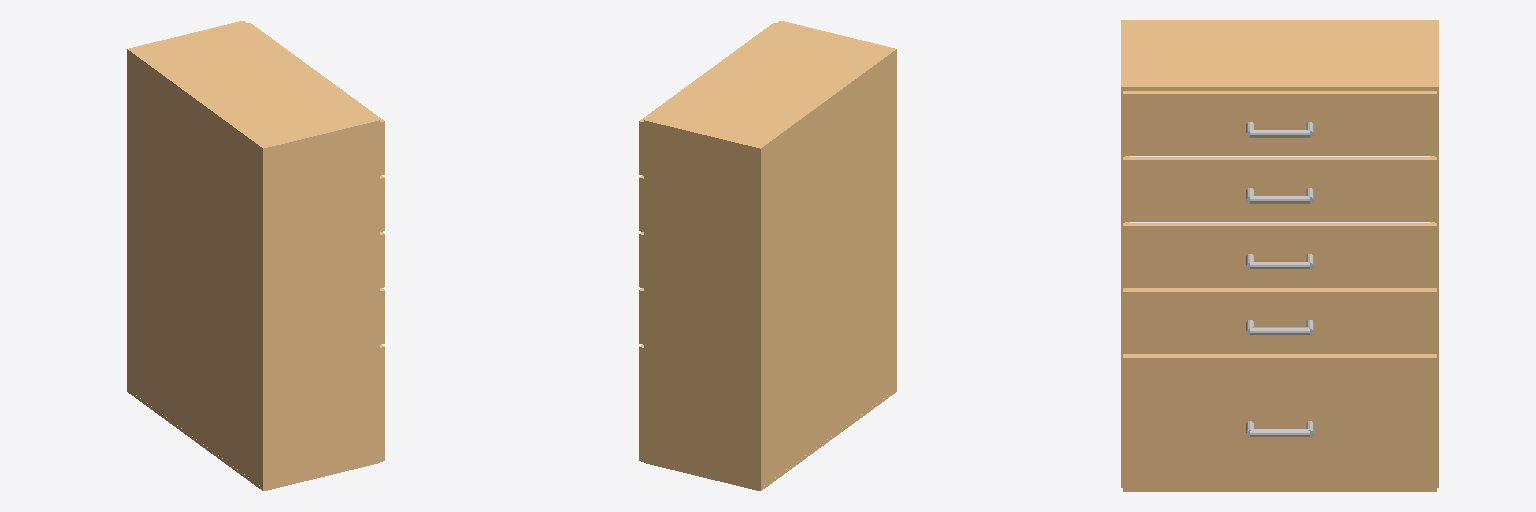
The robot description file, URDF, robot "room610-shelf2":
<?xml version="1.0"?>
<robot name="room610-shelf2"
       xmlns:xi="http://www.w3.org/2001/XInclude"
       xmlns:gazebo="http://playerstage.sourceforge.net/gazebo/xmlschema/#gz"
       xmlns:model="http://playerstage.sourceforge.net/gazebo/xmlschema/#model"
       xmlns:sensor="http://playerstage.sourceforge.net/gazebo/xmlschema/#sensor"
       xmlns:body="http://playerstage.sourceforge.net/gazebo/xmlschema/#body"
       xmlns:geom="http://playerstage.sourceforge.net/gazebo/xmlschema/#geom"
       xmlns:joint="http://playerstage.sourceforge.net/gazebo/xmlschema/#joint"
       xmlns:interface="http://playerstage.sourceforge.net/gazebo/xmlschema/#interface"
       xmlns:rendering="http://playerstage.sourceforge.net/gazebo/xmlschema/#rendering"
       xmlns:renderable="http://playerstage.sourceforge.net/gazebo/xmlschema/#renderable"
       xmlns:controller="http://playerstage.sourceforge.net/gazebo/xmlschema/#controller"
       xmlns:physics="http://playerstage.sourceforge.net/gazebo/xmlschema/#physics">
  <gazebo>
    <static>false</static>
  </gazebo>
  <link name="ROOT_link">
    <visual>
      <origin xyz="0 0 0" rpy="0 -0 0"/>
      <geometry>
        <mesh filename="model://room610-shelf2/meshes/ROOT_link_mesh.dae" scale="1 1 1" />
      </geometry>
    </visual>
    <collision>
      <origin xyz="0 0 0" rpy="0 -0 0"/>
      <geometry>
        <mesh filename="model://room610-shelf2/meshes/ROOT_link_mesh.dae" scale="1 1 1" />
      </geometry>
    </collision>
    <inertial>
      <mass value="0.001" />
      <origin xyz="0 0 0" rpy="0 -0 0"/>
      <inertia ixx="1e-09" ixy="0" ixz="0" iyy="1e-09" iyz="0" izz="1e-09"/>
    </inertial>
  </link>
  <gazebo reference="ROOT_link">
    <mu1>0.9</mu1>
    <mu2>0.9</mu2>
  </gazebo>
  <link name="ROOM610-SHELF2-BODYSET6_link">
    <visual>
      <origin xyz="0.0055 0 0.175" rpy="0 -0 0"/>
      <geometry>
        <mesh filename="model://room610-shelf2/meshes/ROOM610-SHELF2-BODYSET6_link_mesh.dae" scale="1 1 1" />
      </geometry>
    </visual>
    <collision>
      <origin xyz="0.0055 0 0.175" rpy="0 -0 0"/>
      <geometry>
        <mesh filename="model://room610-shelf2/meshes/ROOM610-SHELF2-BODYSET6_link_mesh.dae" scale="1 1 1" />
      </geometry>
    </collision>
    <inertial>
      <mass value="0.001" />
      <origin xyz="0 0 0" rpy="0 -0 0"/>
      <inertia ixx="1e-09" ixy="0" ixz="0" iyy="1e-09" iyz="0" izz="1e-09"/>
    </inertial>
  </link>
  <gazebo reference="ROOM610-SHELF2-BODYSET6_link">
    <mu1>0.9</mu1>
    <mu2>0.9</mu2>
  </gazebo>
  <link name="ROOM610-SHELF2-BODYSET5_link">
    <visual>
      <origin xyz="0.0055 0 0.45625" rpy="0 -0 0"/>
      <geometry>
        <mesh filename="model://room610-shelf2/meshes/ROOM610-SHELF2-BODYSET5_link_mesh.dae" scale="1 1 1" />
      </geometry>
    </visual>
    <collision>
      <origin xyz="0.0055 0 0.45625" rpy="0 -0 0"/>
      <geometry>
        <mesh filename="model://room610-shelf2/meshes/ROOM610-SHELF2-BODYSET5_link_mesh.dae" scale="1 1 1" />
      </geometry>
    </collision>
    <inertial>
      <mass value="0.001" />
      <origin xyz="0 0 0" rpy="0 -0 0"/>
      <inertia ixx="1e-09" ixy="0" ixz="0" iyy="1e-09" iyz="0" izz="1e-09"/>
    </inertial>
  </link>
  <gazebo reference="ROOM610-SHELF2-BODYSET5_link">
    <mu1>0.9</mu1>
    <mu2>0.9</mu2>
  </gazebo>
  <link name="ROOM610-SHELF2-BODYSET4_link">
    <visual>
      <origin xyz="0.0055 0 0.63875" rpy="0 -0 0"/>
      <geometry>
        <mesh filename="model://room610-shelf2/meshes/ROOM610-SHELF2-BODYSET4_link_mesh.dae" scale="1 1 1" />
      </geometry>
    </visual>
    <collision>
      <origin xyz="0.0055 0 0.63875" rpy="0 -0 0"/>
      <geometry>
        <mesh filename="model://room610-shelf2/meshes/ROOM610-SHELF2-BODYSET4_link_mesh.dae" scale="1 1 1" />
      </geometry>
    </collision>
    <inertial>
      <mass value="0.001" />
      <origin xyz="0 0 0" rpy="0 -0 0"/>
      <inertia ixx="1e-09" ixy="0" ixz="0" iyy="1e-09" iyz="0" izz="1e-09"/>
    </inertial>
  </link>
  <gazebo reference="ROOM610-SHELF2-BODYSET4_link">
    <mu1>0.9</mu1>
    <mu2>0.9</mu2>
  </gazebo>
  <link name="ROOM610-SHELF2-BODYSET3_link">
    <visual>
      <origin xyz="0.0055 0 0.82125" rpy="0 -0 0"/>
      <geometry>
        <mesh filename="model://room610-shelf2/meshes/ROOM610-SHELF2-BODYSET3_link_mesh.dae" scale="1 1 1" />
      </geometry>
    </visual>
    <collision>
      <origin xyz="0.0055 0 0.82125" rpy="0 -0 0"/>
      <geometry>
        <mesh filename="model://room610-shelf2/meshes/ROOM610-SHELF2-BODYSET3_link_mesh.dae" scale="1 1 1" />
      </geometry>
    </collision>
    <inertial>
      <mass value="0.001" />
      <origin xyz="0 0 0" rpy="0 -0 0"/>
      <inertia ixx="1e-09" ixy="0" ixz="0" iyy="1e-09" iyz="0" izz="1e-09"/>
    </inertial>
  </link>
  <gazebo reference="ROOM610-SHELF2-BODYSET3_link">
    <mu1>0.9</mu1>
    <mu2>0.9</mu2>
  </gazebo>
  <link name="ROOM610-SHELF2-BODYSET2_link">
    <visual>
      <origin xyz="0.0055 0 1.00375" rpy="0 -0 0"/>
      <geometry>
        <mesh filename="model://room610-shelf2/meshes/ROOM610-SHELF2-BODYSET2_link_mesh.dae" scale="1 1 1" />
      </geometry>
    </visual>
    <collision>
      <origin xyz="0.0055 0 1.00375" rpy="0 -0 0"/>
      <geometry>
        <mesh filename="model://room610-shelf2/meshes/ROOM610-SHELF2-BODYSET2_link_mesh.dae" scale="1 1 1" />
      </geometry>
    </collision>
    <inertial>
      <mass value="0.001" />
      <origin xyz="0 0 0" rpy="0 -0 0"/>
      <inertia ixx="1e-09" ixy="0" ixz="0" iyy="1e-09" iyz="0" izz="1e-09"/>
    </inertial>
  </link>
  <gazebo reference="ROOM610-SHELF2-BODYSET2_link">
    <mu1>0.9</mu1>
    <mu2>0.9</mu2>
  </gazebo>
  <joint name="DRAWER0" type="prismatic">
    <parent link="ROOT_link"/>
    <child  link="ROOM610-SHELF2-BODYSET6_link"/>
    <origin xyz="0.0055 0 0.175" rpy="0 -0 0 "/>
    <axis   xyz="1 0 0"/>
    <limit lower="0" upper="0.405" effort="100" velocity="0.01" />
    <dynamics damping="0.2" friction="0" />
  </joint>
  <transmission type="pr2_mechanism_model/SimpleTransmission" name="DRAWER0_trans" >
    <actuator name="DRAWER0_motor" />
    <joint name="DRAWER0" />
    <mechanicalReduction>1</mechanicalReduction>
  </transmission>
  <gazebo reference="DRAWER0">
    <cfmDamping>0.4</cfmDamping>
  </gazebo>
  <joint name="DRAWER1" type="prismatic">
    <parent link="ROOT_link"/>
    <child  link="ROOM610-SHELF2-BODYSET5_link"/>
    <origin xyz="0.0055 0 0.45625" rpy="0 -0 0 "/>
    <axis   xyz="1 0 0"/>
    <limit lower="0" upper="0.405" effort="100" velocity="0.01" />
    <dynamics damping="0.2" friction="0" />
  </joint>
  <transmission type="pr2_mechanism_model/SimpleTransmission" name="DRAWER1_trans" >
    <actuator name="DRAWER1_motor" />
    <joint name="DRAWER1" />
    <mechanicalReduction>1</mechanicalReduction>
  </transmission>
  <gazebo reference="DRAWER1">
    <cfmDamping>0.4</cfmDamping>
  </gazebo>
  <joint name="DRAWER2" type="prismatic">
    <parent link="ROOT_link"/>
    <child  link="ROOM610-SHELF2-BODYSET4_link"/>
    <origin xyz="0.0055 0 0.63875" rpy="0 -0 0 "/>
    <axis   xyz="1 0 0"/>
    <limit lower="0" upper="0.405" effort="100" velocity="0.01" />
    <dynamics damping="0.2" friction="0" />
  </joint>
  <transmission type="pr2_mechanism_model/SimpleTransmission" name="DRAWER2_trans" >
    <actuator name="DRAWER2_motor" />
    <joint name="DRAWER2" />
    <mechanicalReduction>1</mechanicalReduction>
  </transmission>
  <gazebo reference="DRAWER2">
    <cfmDamping>0.4</cfmDamping>
  </gazebo>
  <joint name="DRAWER3" type="prismatic">
    <parent link="ROOT_link"/>
    <child  link="ROOM610-SHELF2-BODYSET3_link"/>
    <origin xyz="0.0055 0 0.82125" rpy="0 -0 0 "/>
    <axis   xyz="1 0 0"/>
    <limit lower="0" upper="0.405" effort="100" velocity="0.01" />
    <dynamics damping="0.2" friction="0" />
  </joint>
  <transmission type="pr2_mechanism_model/SimpleTransmission" name="DRAWER3_trans" >
    <actuator name="DRAWER3_motor" />
    <joint name="DRAWER3" />
    <mechanicalReduction>1</mechanicalReduction>
  </transmission>
  <gazebo reference="DRAWER3">
    <cfmDamping>0.4</cfmDamping>
  </gazebo>
  <joint name="DRAWER4" type="prismatic">
    <parent link="ROOT_link"/>
    <child  link="ROOM610-SHELF2-BODYSET2_link"/>
    <origin xyz="0.0055 0 1.00375" rpy="0 -0 0 "/>
    <axis   xyz="1 0 0"/>
    <limit lower="0" upper="0.405" effort="100" velocity="0.01" />
    <dynamics damping="0.2" friction="0" />
  </joint>
  <transmission type="pr2_mechanism_model/SimpleTransmission" name="DRAWER4_trans" >
    <actuator name="DRAWER4_motor" />
    <joint name="DRAWER4" />
    <mechanicalReduction>1</mechanicalReduction>
  </transmission>
  <gazebo reference="DRAWER4">
    <cfmDamping>0.4</cfmDamping>
  </gazebo>
</robot>

--- What the picture shows (computed from the rendered views, not written in the file) ---
Views: 3 orthographic renders of the robot side by side, from view 1: azimuth 30°, elevation 25°; view 2: azimuth 150°, elevation 25°; view 3: azimuth 270°, elevation 25°.
Robot: room610-shelf2 — 6 links, 5 joints (5 prismatic); root link ROOT_link; default pose: every joint at zero.
Links seen in each view (by area): view 1: ROOT_link, ROOM610-SHELF2-BODYSET2_link, ROOM610-SHELF2-BODYSET6_link; view 2: ROOT_link, ROOM610-SHELF2-BODYSET2_link, ROOM610-SHELF2-BODYSET6_link; view 3: ROOM610-SHELF2-BODYSET6_link, ROOT_link, ROOM610-SHELF2-BODYSET5_link, ROOM610-SHELF2-BODYSET4_link, ROOM610-SHELF2-BODYSET3_link, ROOM610-SHELF2-BODYSET2_link.
Link boxes in pixels (x1,y1,x2,y2): ROOT_link: (127, 21, 379, 490); ROOM610-SHELF2-BODYSET2_link: (248, 23, 384, 175); ROOM610-SHELF2-BODYSET6_link: (380, 344, 384, 461); ROOT_link: (644, 21, 896, 490); ROOM610-SHELF2-BODYSET2_link: (639, 23, 775, 175); ROOM610-SHELF2-BODYSET6_link: (639, 344, 643, 461); ROOM610-SHELF2-BODYSET6_link: (1123, 354, 1436, 491); ROOT_link: (1121, 20, 1438, 487); ROOM610-SHELF2-BODYSET5_link: (1123, 288, 1436, 353); ROOM610-SHELF2-BODYSET4_link: (1123, 222, 1436, 287); ROOM610-SHELF2-BODYSET3_link: (1123, 156, 1436, 221); ROOM610-SHELF2-BODYSET2_link: (1123, 91, 1436, 155).
Bounding box of the posed robot: 0.475 × 0.8 × 1.11 m (x, y, z).
6 mesh visuals loaded from 6 distinct referenced files (6 Collada DAE).
